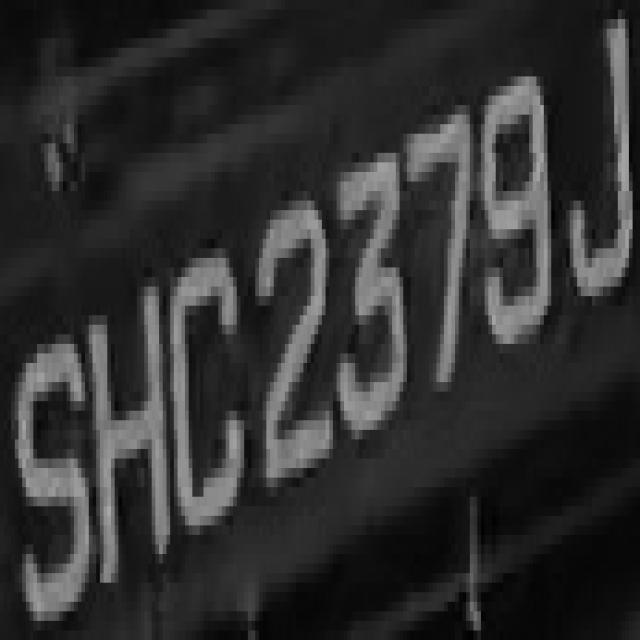2: (248, 162, 337, 526)
3: (325, 115, 407, 449)
7: (384, 76, 474, 411)
9: (477, 67, 559, 372)
C: (159, 220, 241, 582)
H: (78, 258, 178, 592)
J: (552, 10, 636, 315)
S: (11, 296, 93, 631)
